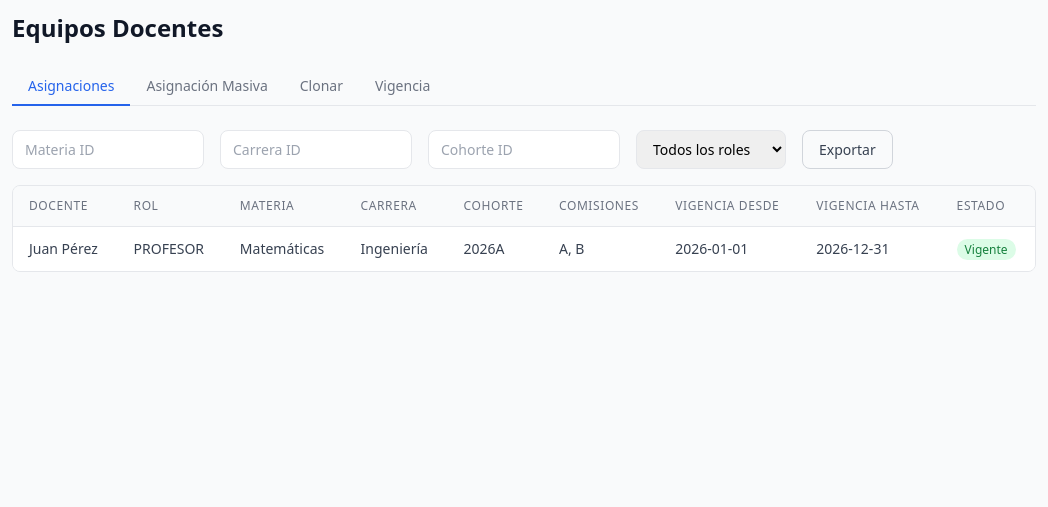
Test: EquiposPage › cambia de tab al hacer clic
Click the button "Clonar": point(321, 87) [284, 68, 359, 106]
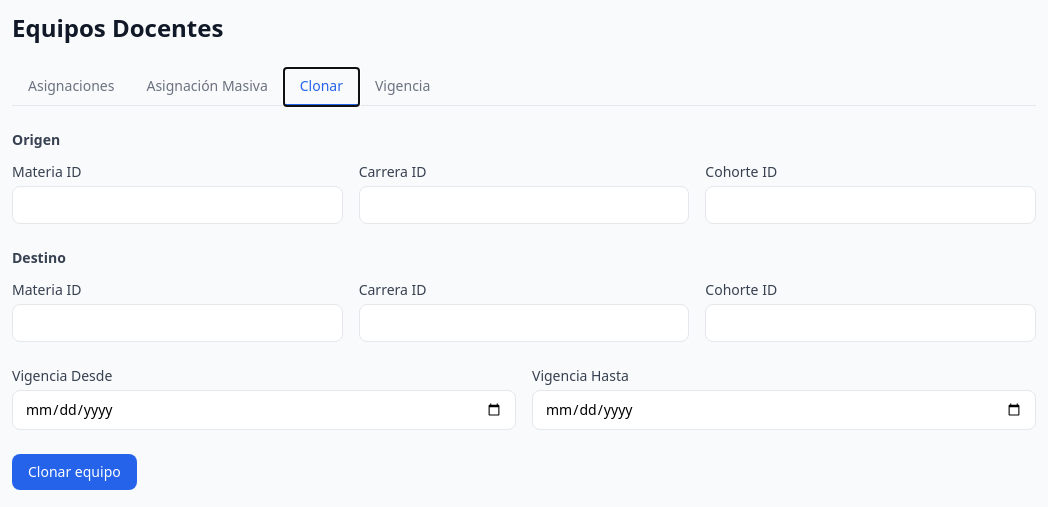
Expected: the button "Clonar equipo" is shown, [12, 454, 137, 490]
